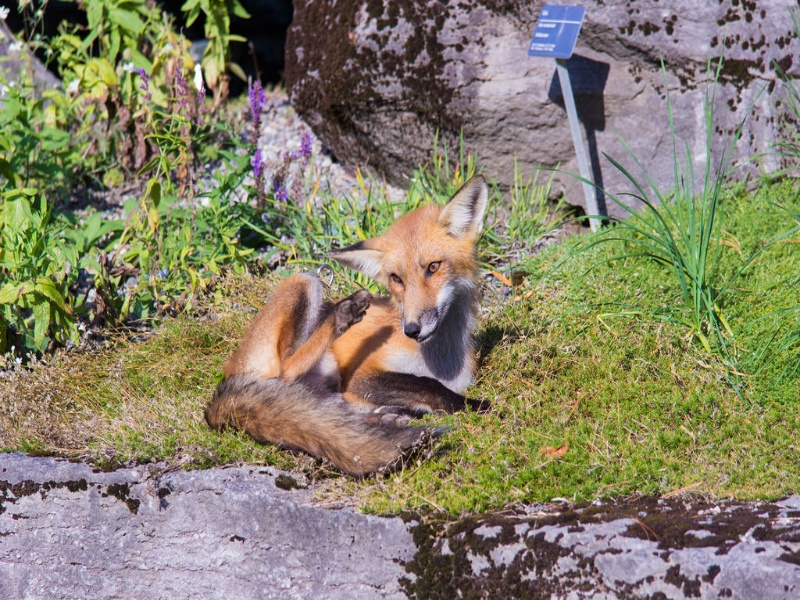fox: (196, 178, 502, 466)
